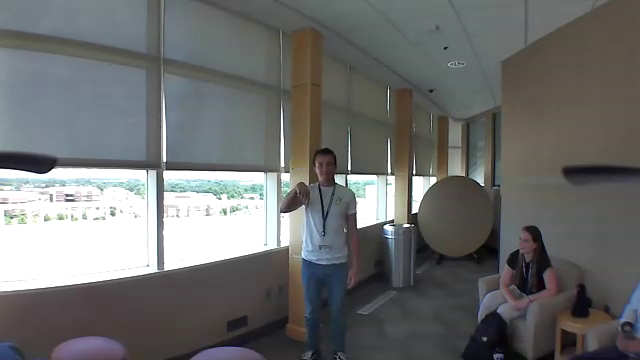down: (290, 178, 313, 210)
